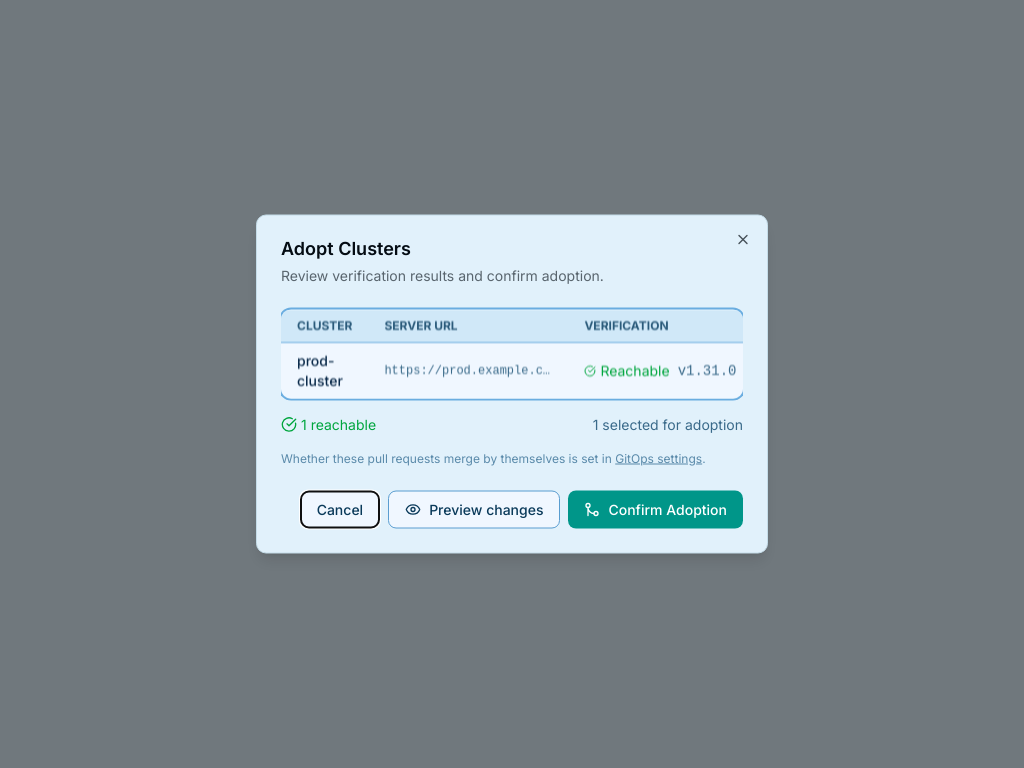
Test: AdoptClustersDialog › episode 3 dry run: what adopt shows and asks › finding 3: the success screen with the PR link stays after the refresh asks for new clusters
Click the button "Confirm Adoption": (656, 510) [568,490,743,528]
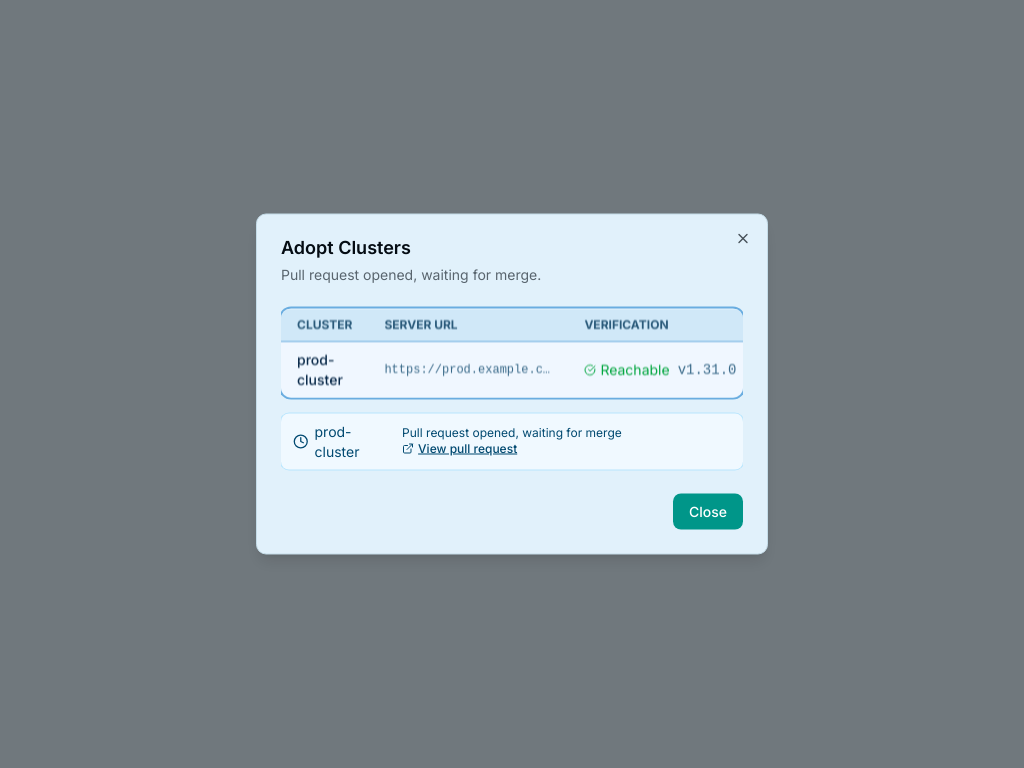
Check: the text "Pull request opened, waiting for merge." is shown, box [281,266,541,282]
